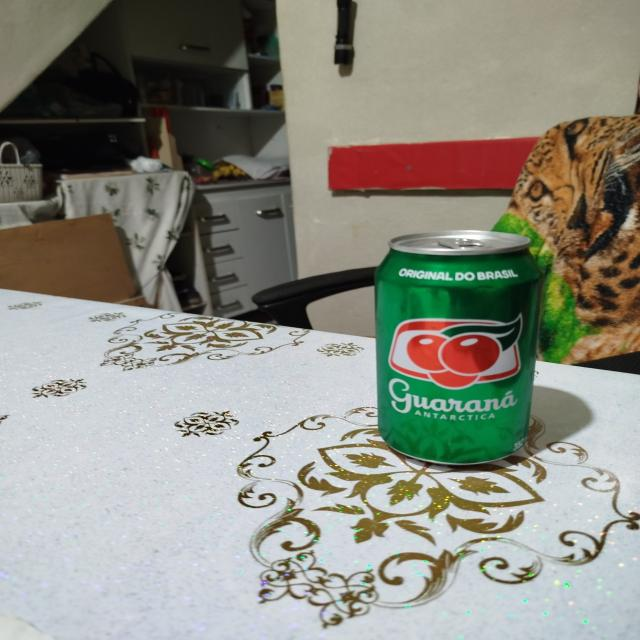Guarana: (371, 236, 536, 454)
